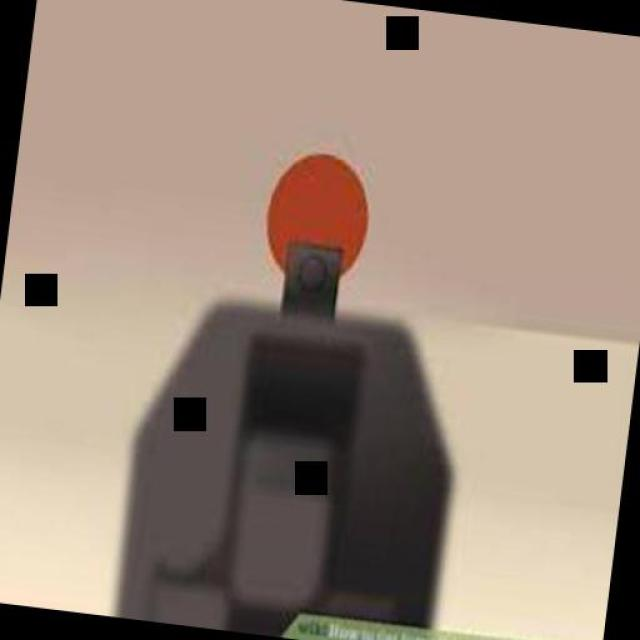gun: (111, 106, 488, 640)
